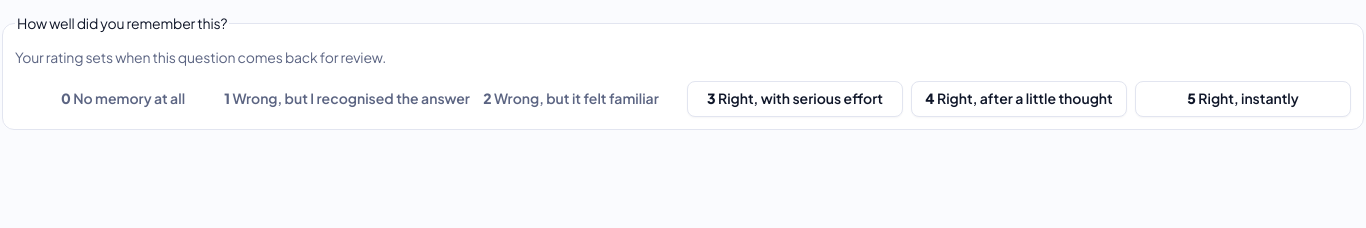
self-grade › explains a 409 already_graded
Click the button with aria-label "5 – " at (1243, 99), box [1135,81,1351,117]
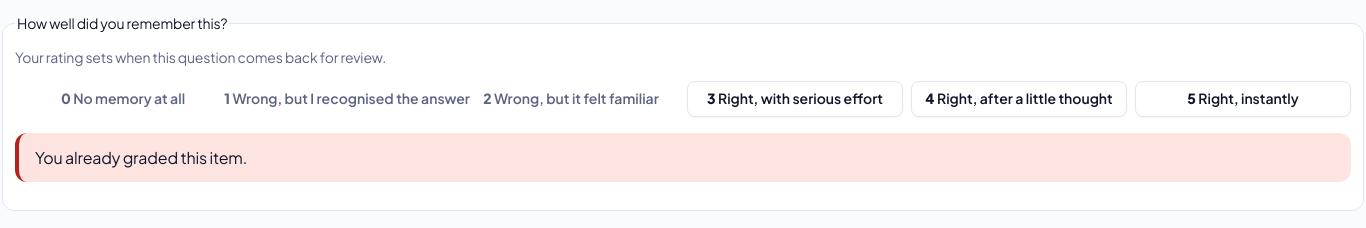
Check: the text "You already graded this item." is shown, box [35,147,247,168]
